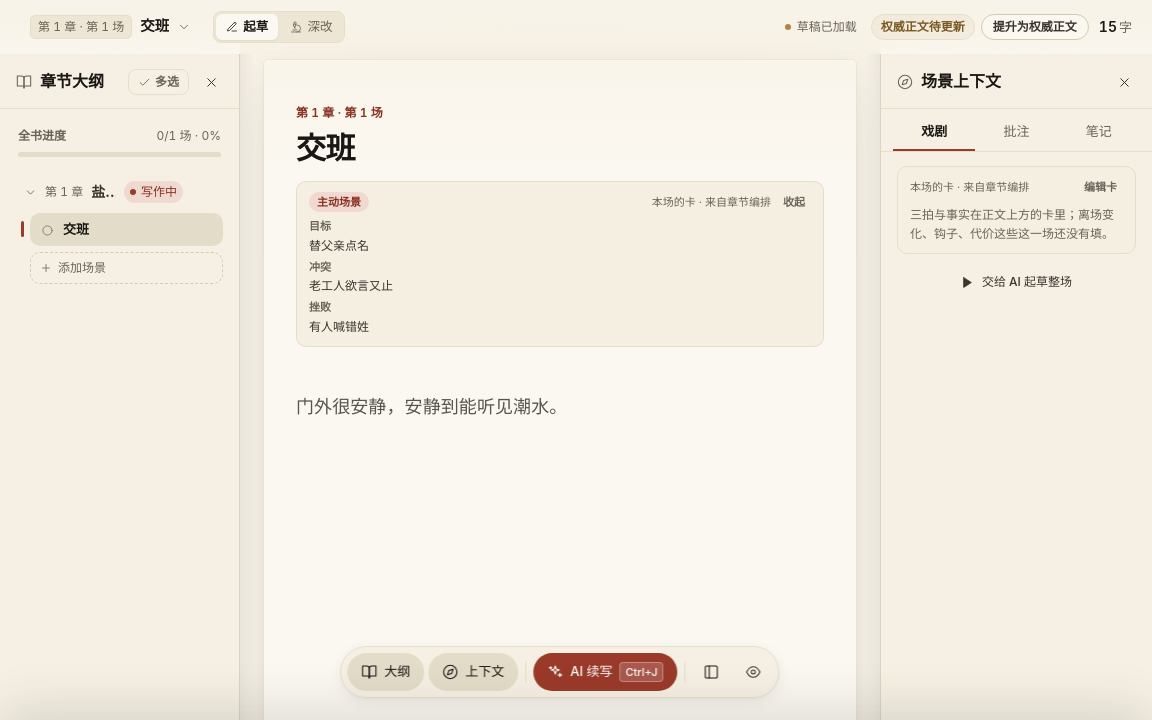
Test: 写作台 · 深改只诊断、不代笔 › 忽略 / 恢复按 signal_id 存到服务端（带修订号），成稿门读的就是这一份；重新诊断不丢忽略
This screenshot has width=1152, height=720.
Click the radio button labelled "深改": (311, 27) [280, 14, 342, 40]
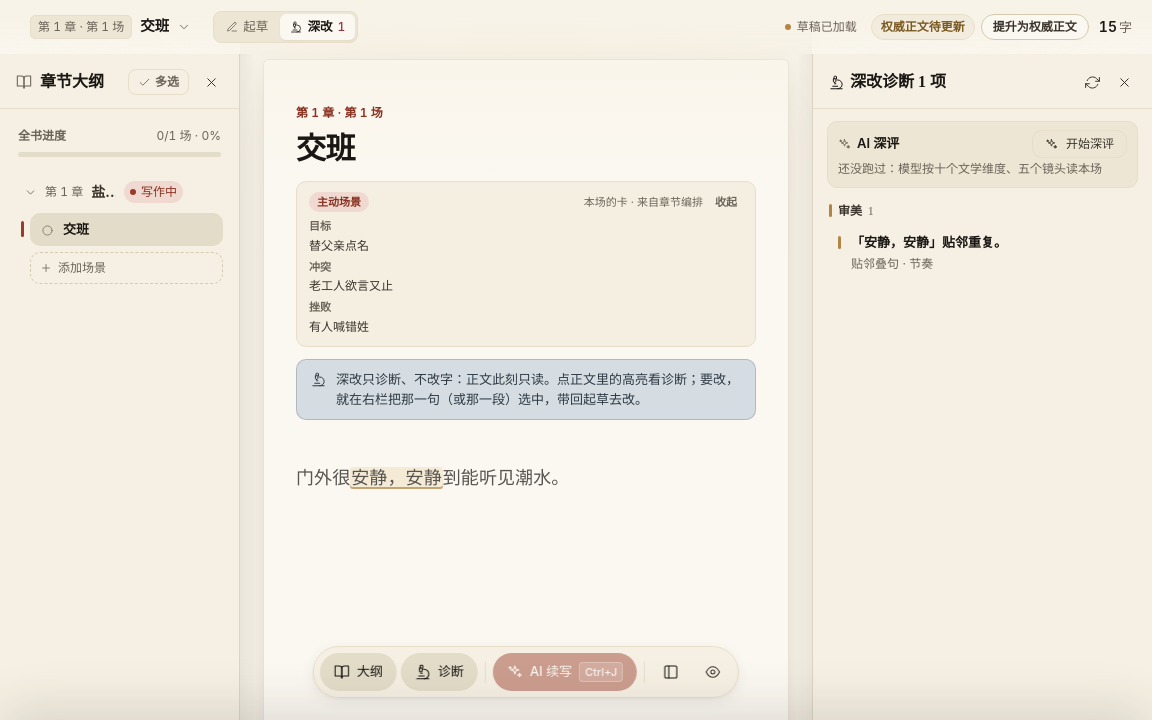
Expected: the element with class "wr-dxd" shows "贴邻重复"
Click the button with class "wr-dxd-row": (929, 242) [828, 225, 1137, 281]
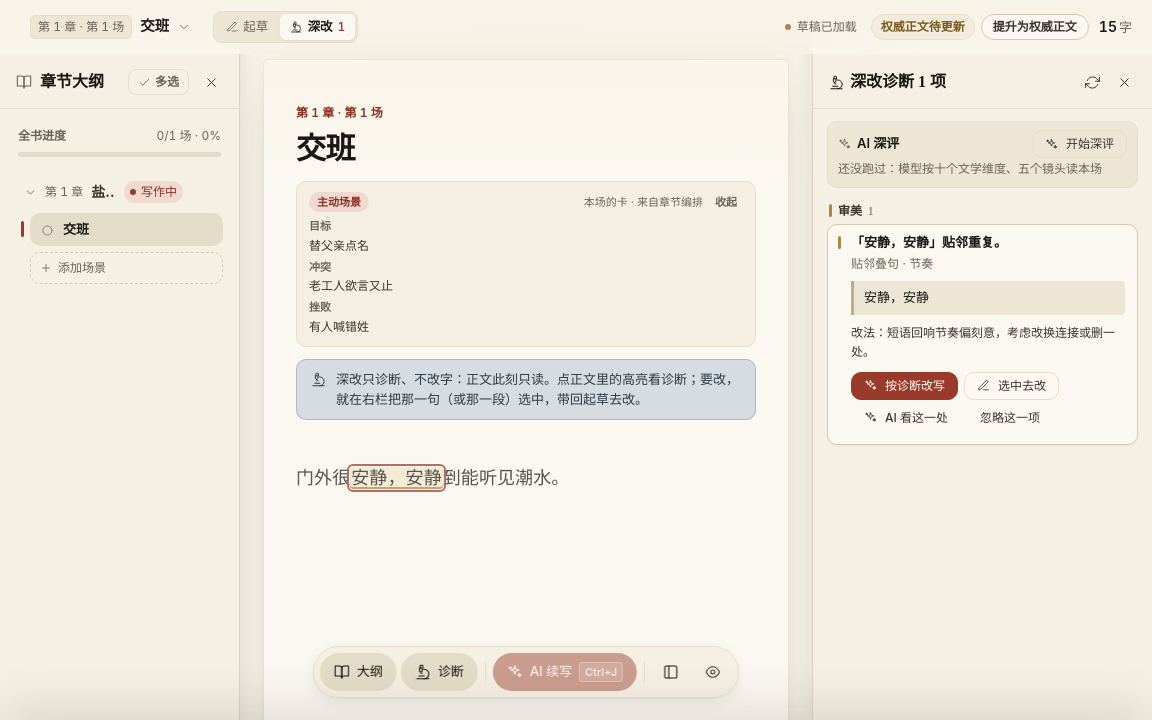
Click the button "忽略这一项": (1010, 418) [967, 404, 1053, 432]
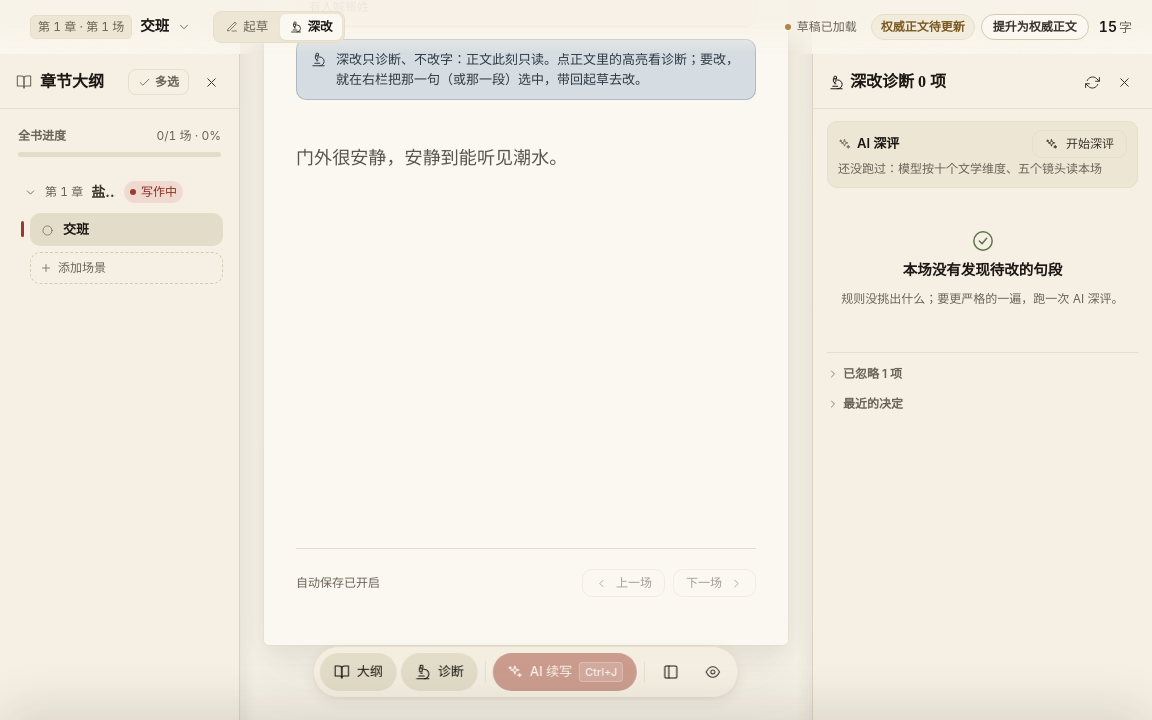
Expected: the element with class "wr-dxd" shows "本场没有发现待改的句段", [903, 262, 1062, 278]
Expected: the element with class "wr-dxd" shows "已忽略 1 项", [827, 363, 902, 385]
Expected: the text with class "wr-dx" is gone
Click the button "最近的决定": (865, 404) [827, 393, 903, 415]
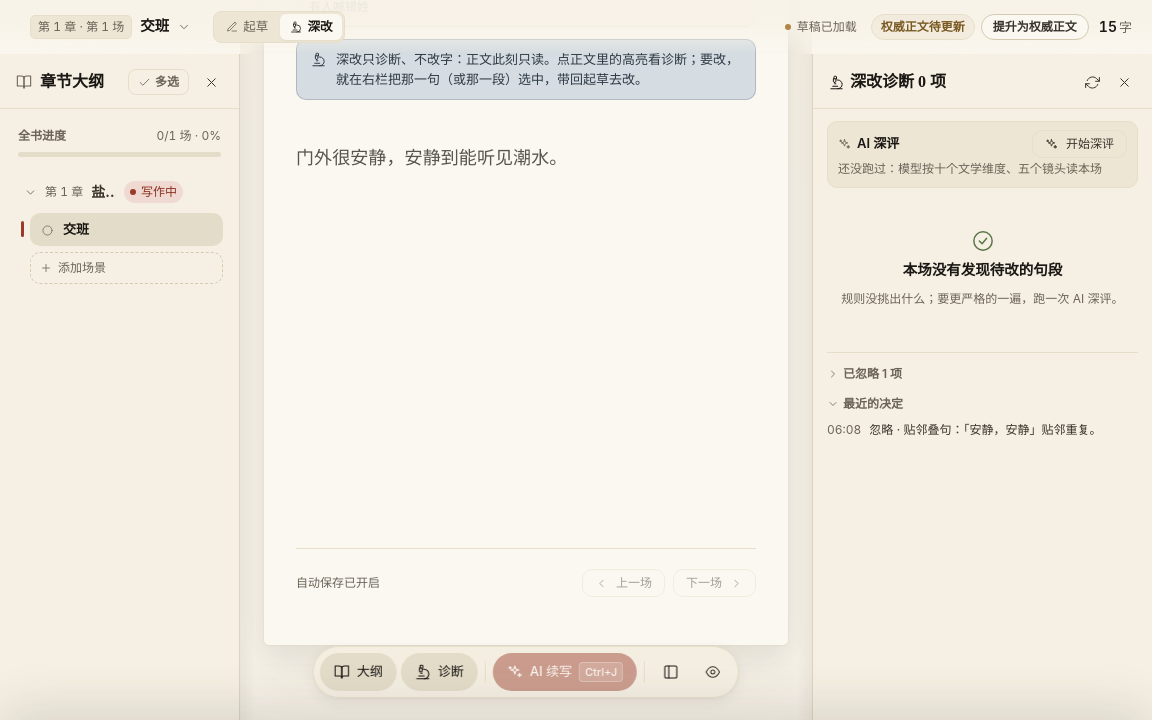
Expected: the element with class "wr-dxd" shows "忽略 · 贴邻叠句", [869, 422, 1102, 437]
Click the button "已忽略 1 项": (865, 374) [827, 363, 902, 385]
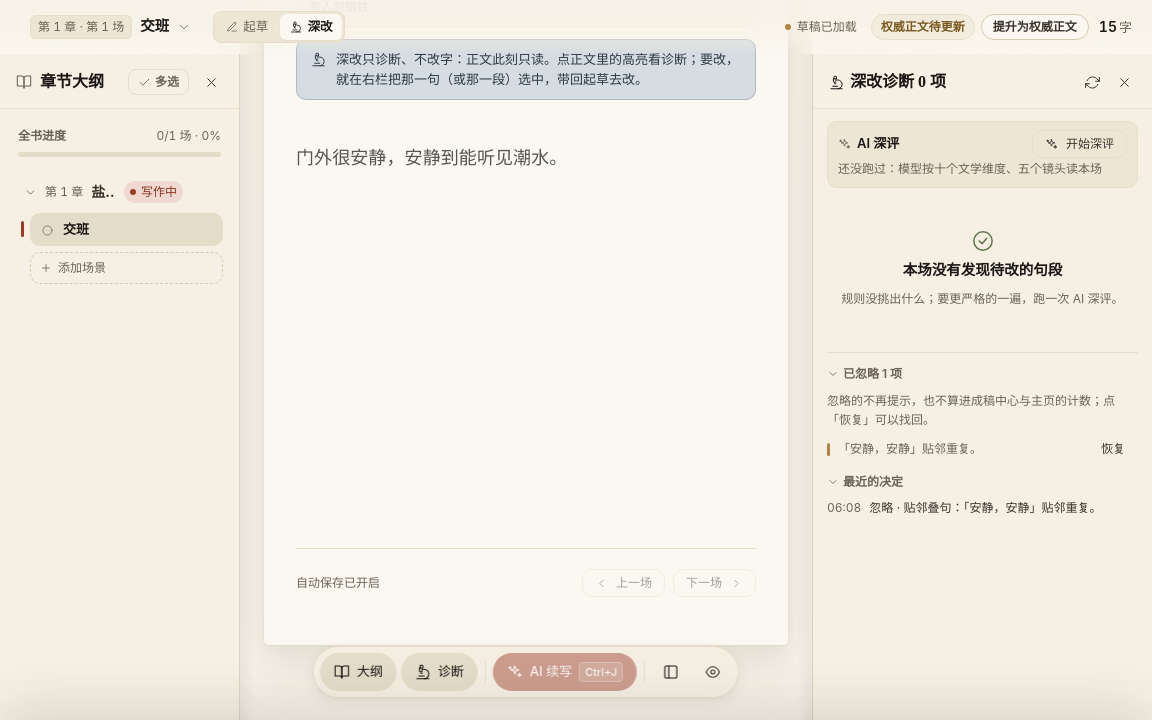
Click the button "恢复": (1113, 449) [1088, 435, 1138, 463]
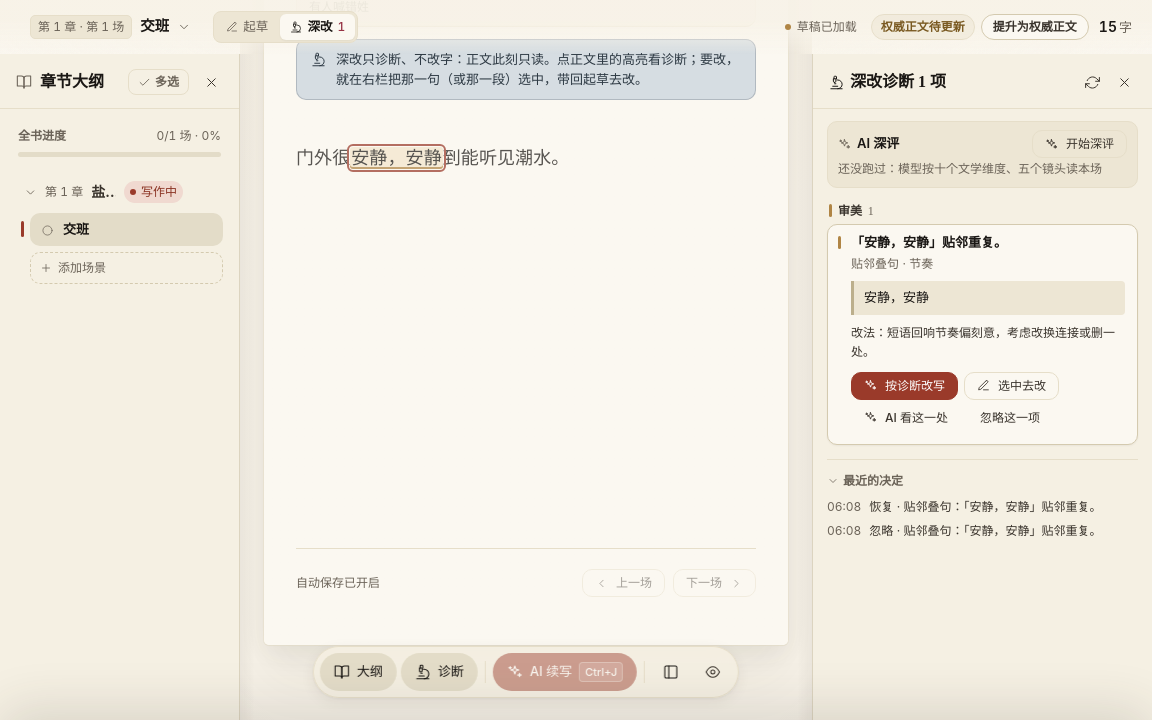
Expected: the text with class "wr-dx" is shown, [350, 147, 443, 169]
Expected: the button with class "wr-dxd" no longer shows "已忽略 1 项"
Expected: the element with class "wr-dxd" shows "恢复 · 贴邻叠句", [869, 499, 1102, 514]
